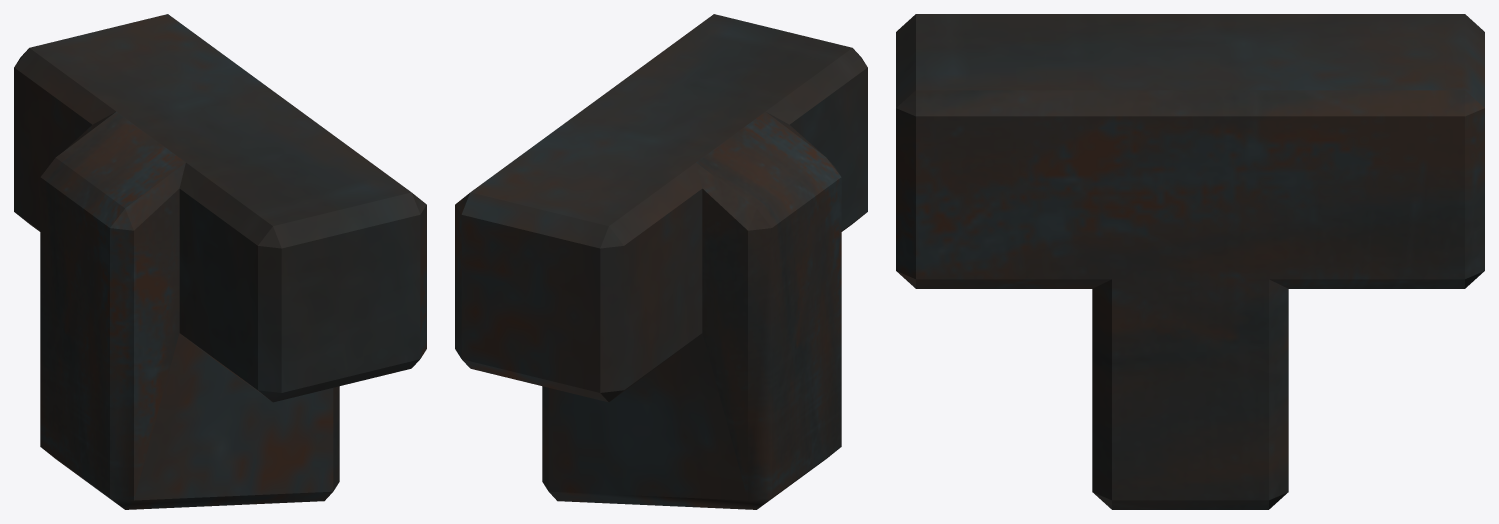
Rendered from beamJoint.fbx.
3 views of the same model, side by side, from view 1: azimuth 30°, elevation 25°; view 2: azimuth 150°, elevation 25°; view 3: azimuth 270°, elevation 25° (orthographic). The views are drawn at different scales.
Visible parts, largest first — view 1: pCube31; view 2: pCube31; view 3: pCube31.
Boxes of the visible parts, left/top/right/bottom form: pCube31: left=14, top=14, right=426, bottom=509; pCube31: left=455, top=14, right=867, bottom=509; pCube31: left=896, top=14, right=1484, bottom=509.
Bounding box in the file's own units: 0.5078 × 0.7867 × 1.
